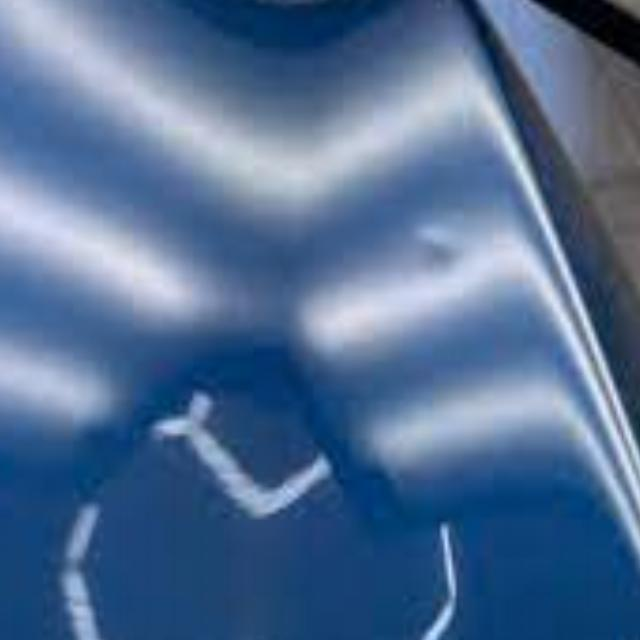dents: (398, 215, 478, 290)
